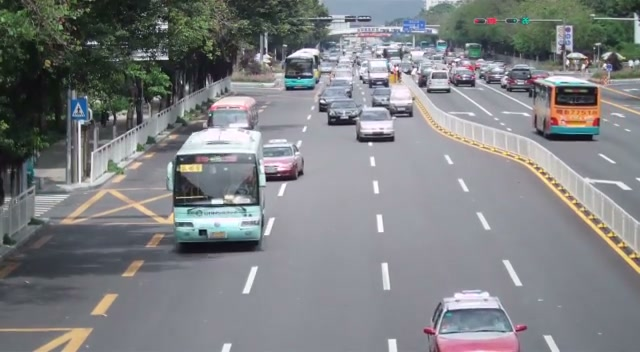bus: (168, 127, 267, 249), (531, 76, 601, 140), (206, 95, 260, 130), (283, 49, 319, 90)
car: (423, 289, 527, 352), (260, 139, 304, 180), (355, 106, 396, 142), (326, 99, 362, 126), (318, 86, 352, 112), (388, 85, 415, 117), (501, 66, 533, 91), (426, 69, 451, 94), (448, 66, 476, 87), (370, 87, 392, 106), (486, 69, 505, 83)
